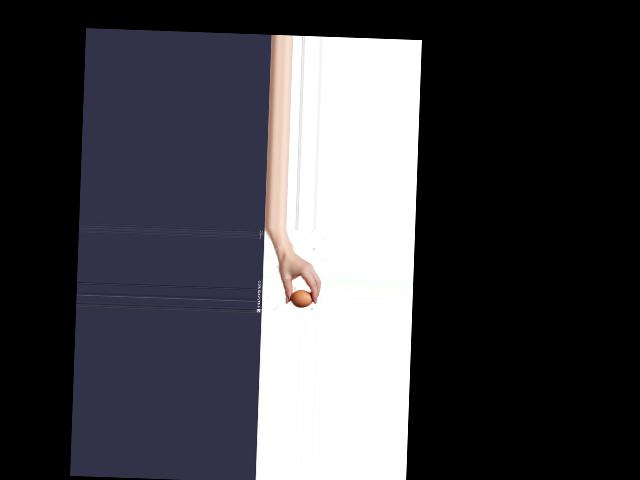egg: (290, 288, 312, 307)
